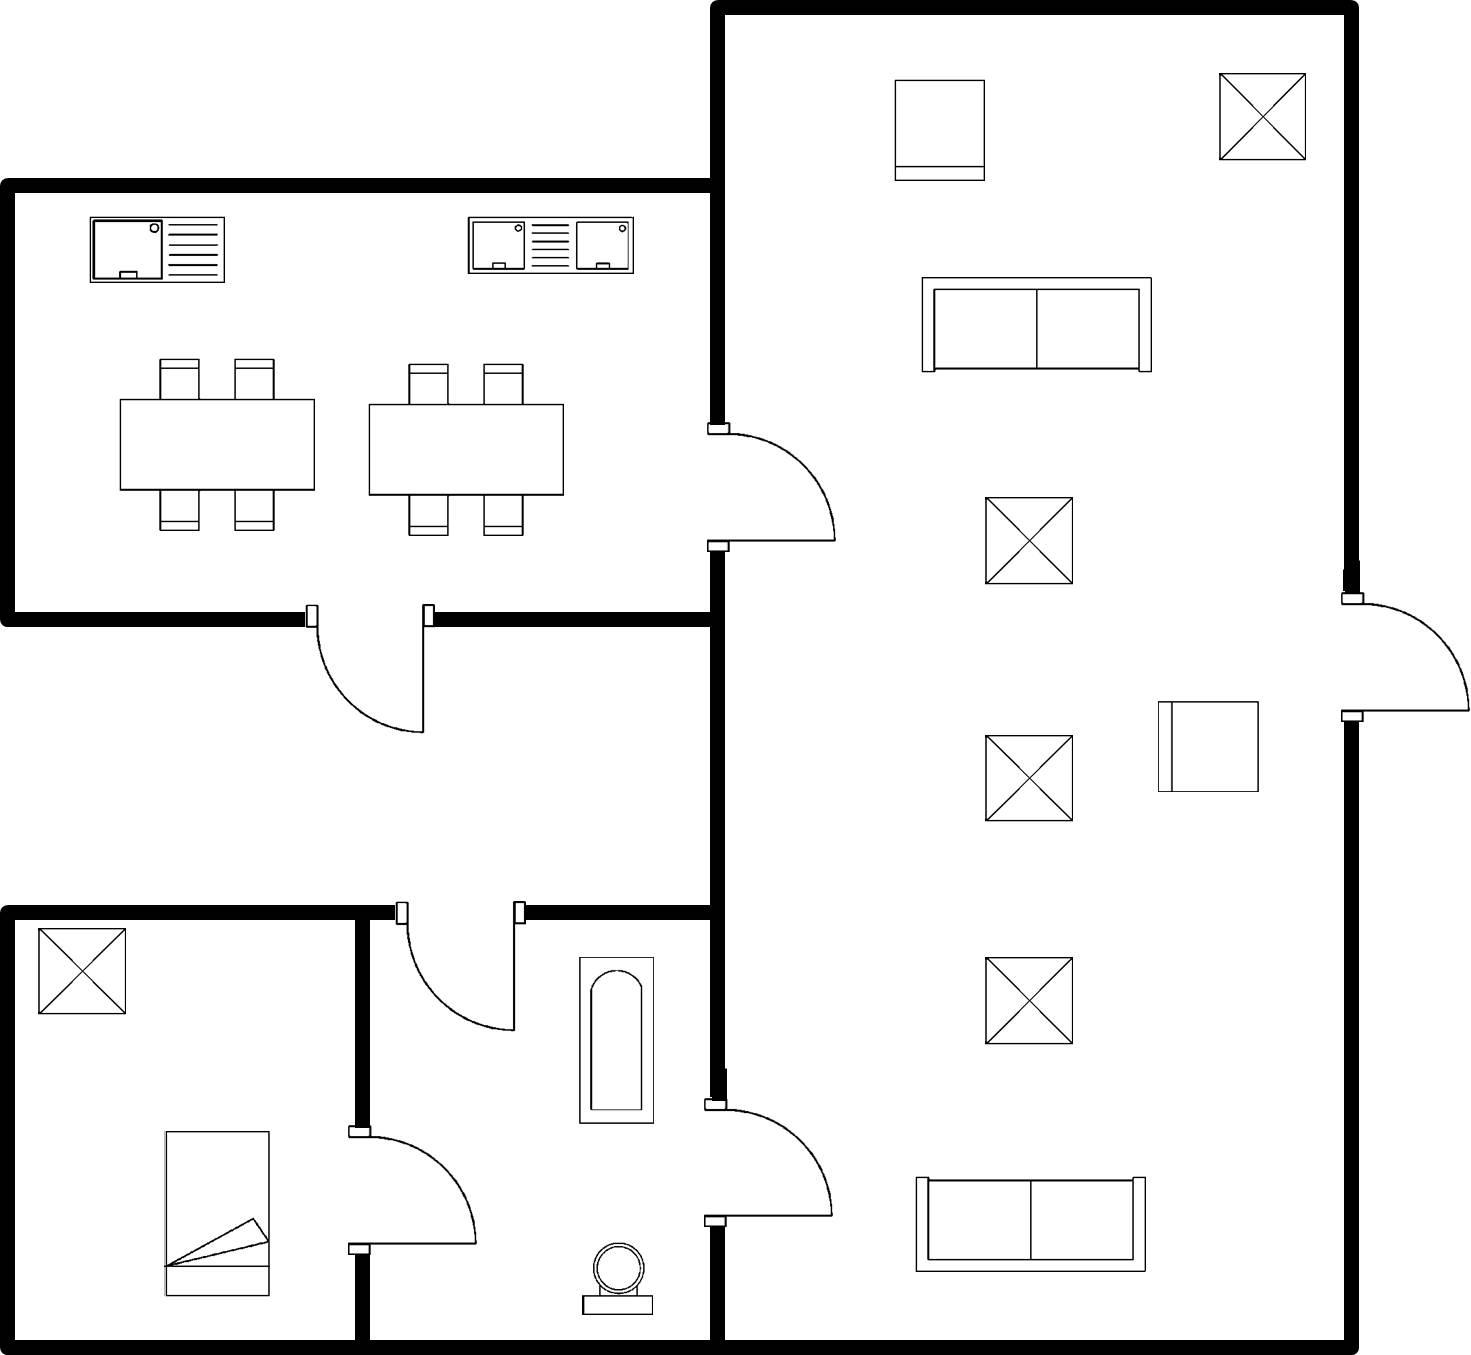sink: (454, 206, 639, 285)
